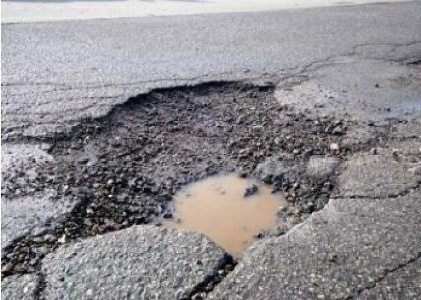pothole: (38, 74, 351, 264)
